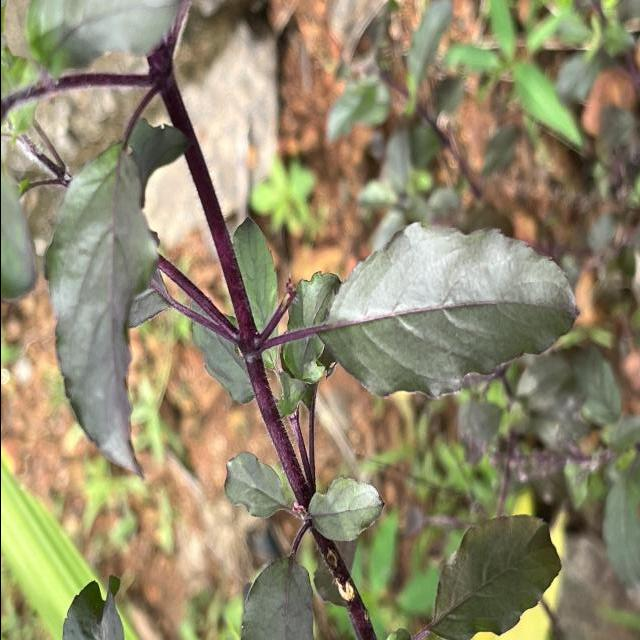Ocimum tenuiflorum: (318, 218, 584, 403), (429, 512, 564, 640)
